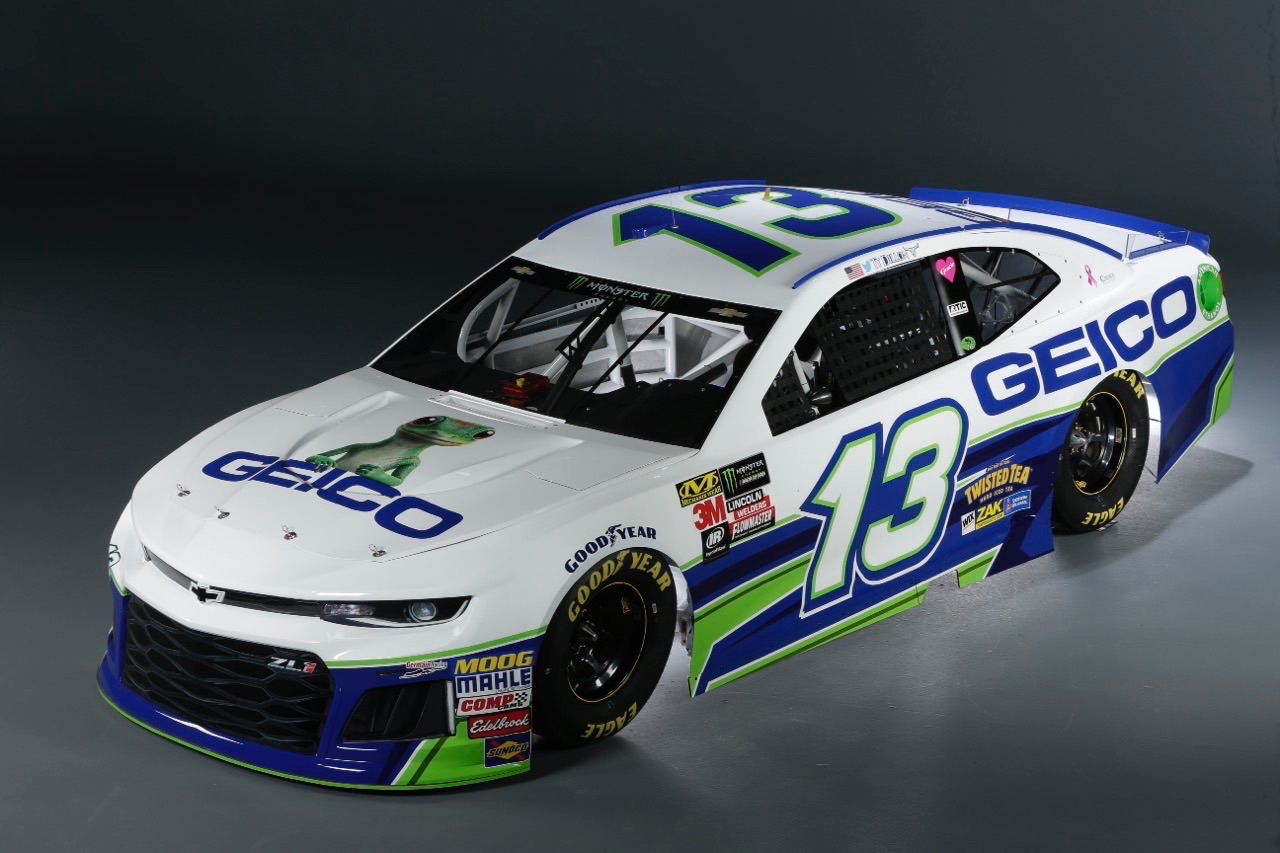Geico: (196, 428, 464, 559), (968, 284, 1217, 415)
